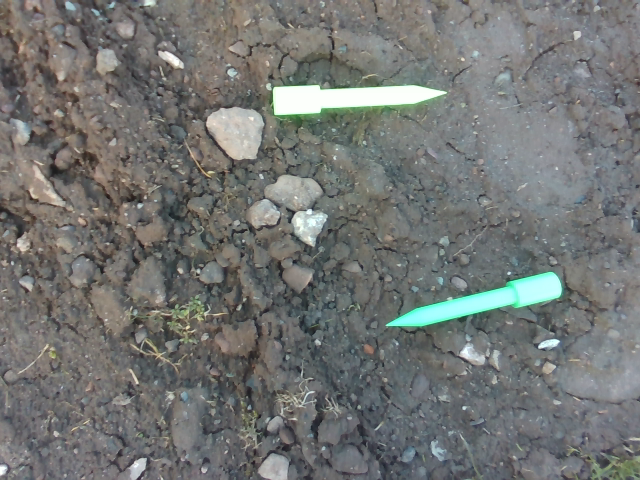Probe: (382, 263, 566, 339), (269, 80, 462, 123)
